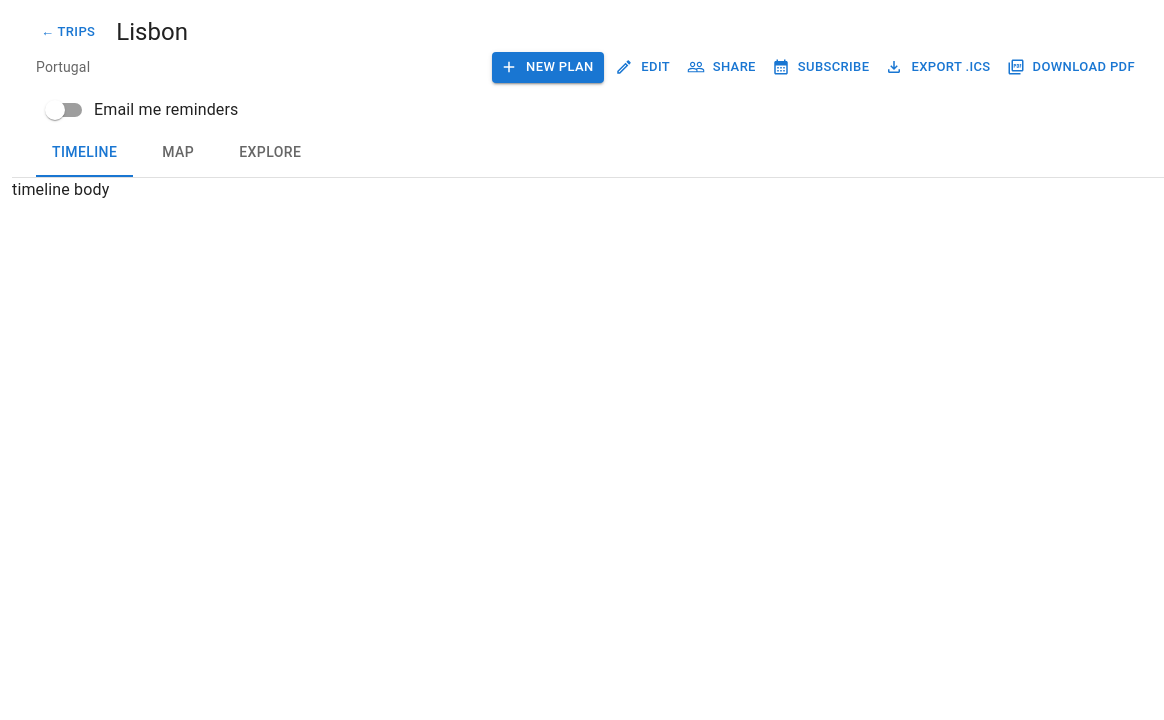
Test: TripDetail › surfaces an error when the .ics export fails
Step 1. Click the button "Export .ics" → (939, 67), box [882,52,996,83]
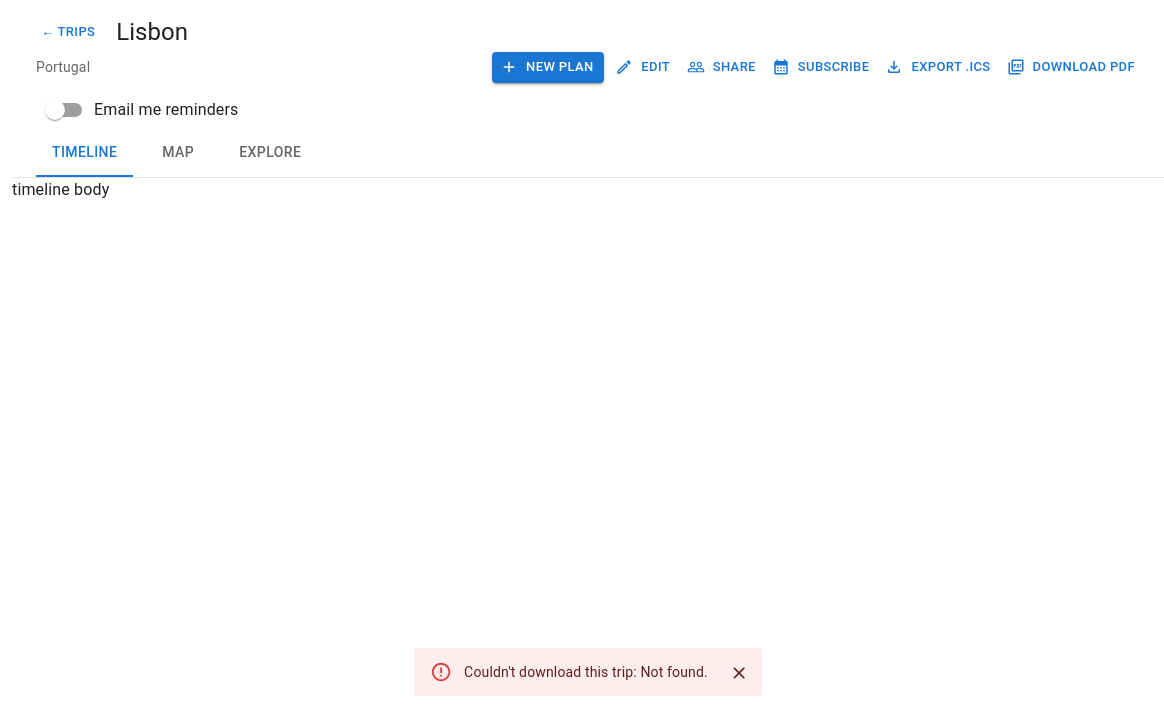
Expected: the text "Couldn't download this trip: Not found." is shown, [464,664,708,680]
